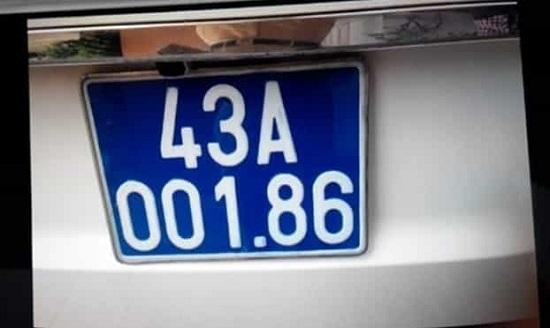numplate: (76, 55, 381, 270)
